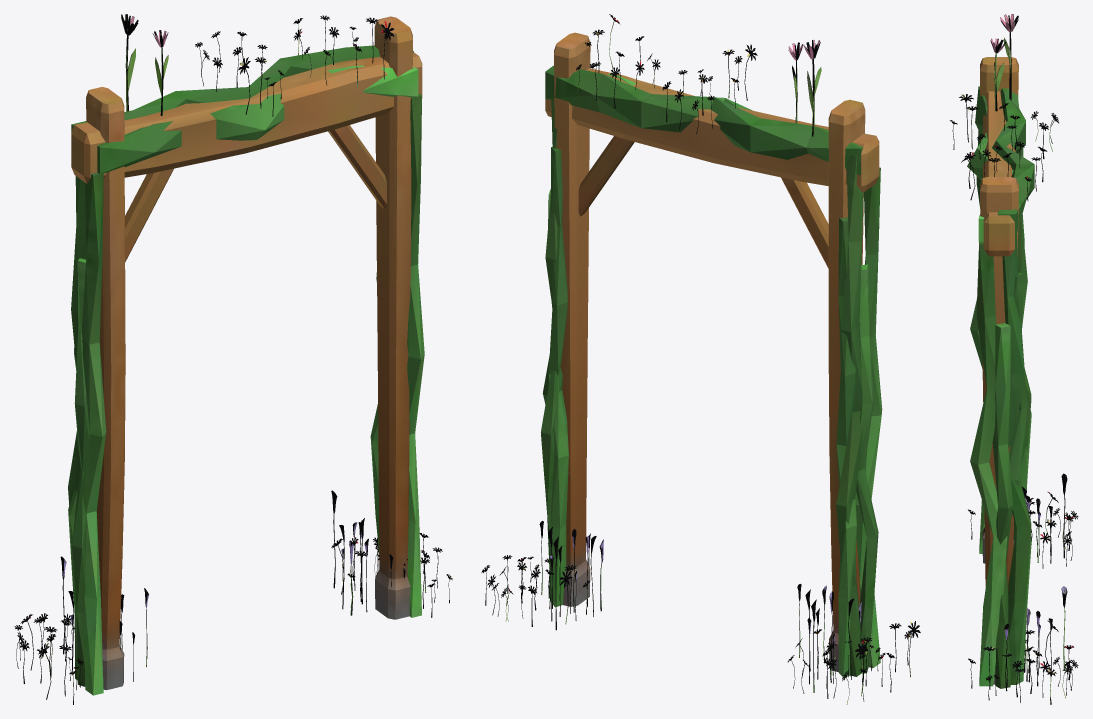
Rendered from arch_vines.glb.
3 renders of one model, left to right at view 1: azimuth 30°, elevation 25°; view 2: azimuth 150°, elevation 25°; view 3: azimuth 270°, elevation 25°, orthographic. The views are drawn at different scales.
Visible parts, largest first — view 1: arch_vines; view 2: arch_vines; view 3: arch_vines.
Part boxes in pixels (x1,y1,x2,y2): arch_vines: (14, 14, 452, 704); arch_vines: (481, 14, 920, 704); arch_vines: (950, 14, 1078, 704).
Size of the model in its own units: 1.45 by 2.14 by 0.45.
1 material, 1 textured.
